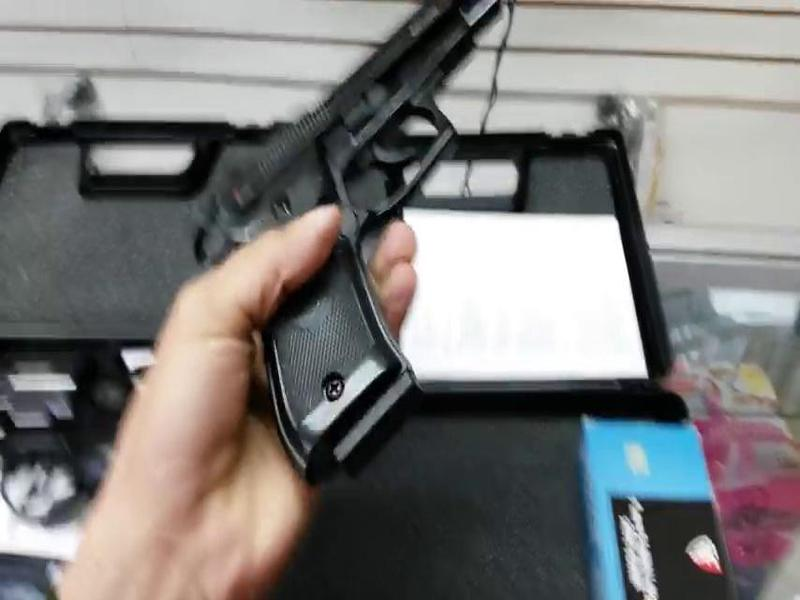Pistola: (133, 1, 538, 486)
